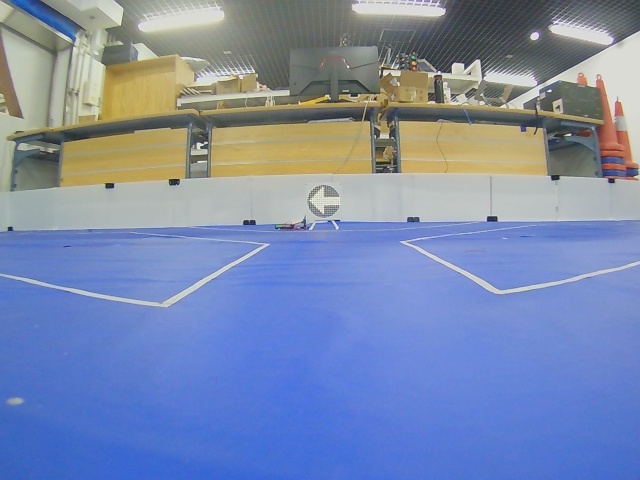left_yellow: (307, 185, 341, 218)
